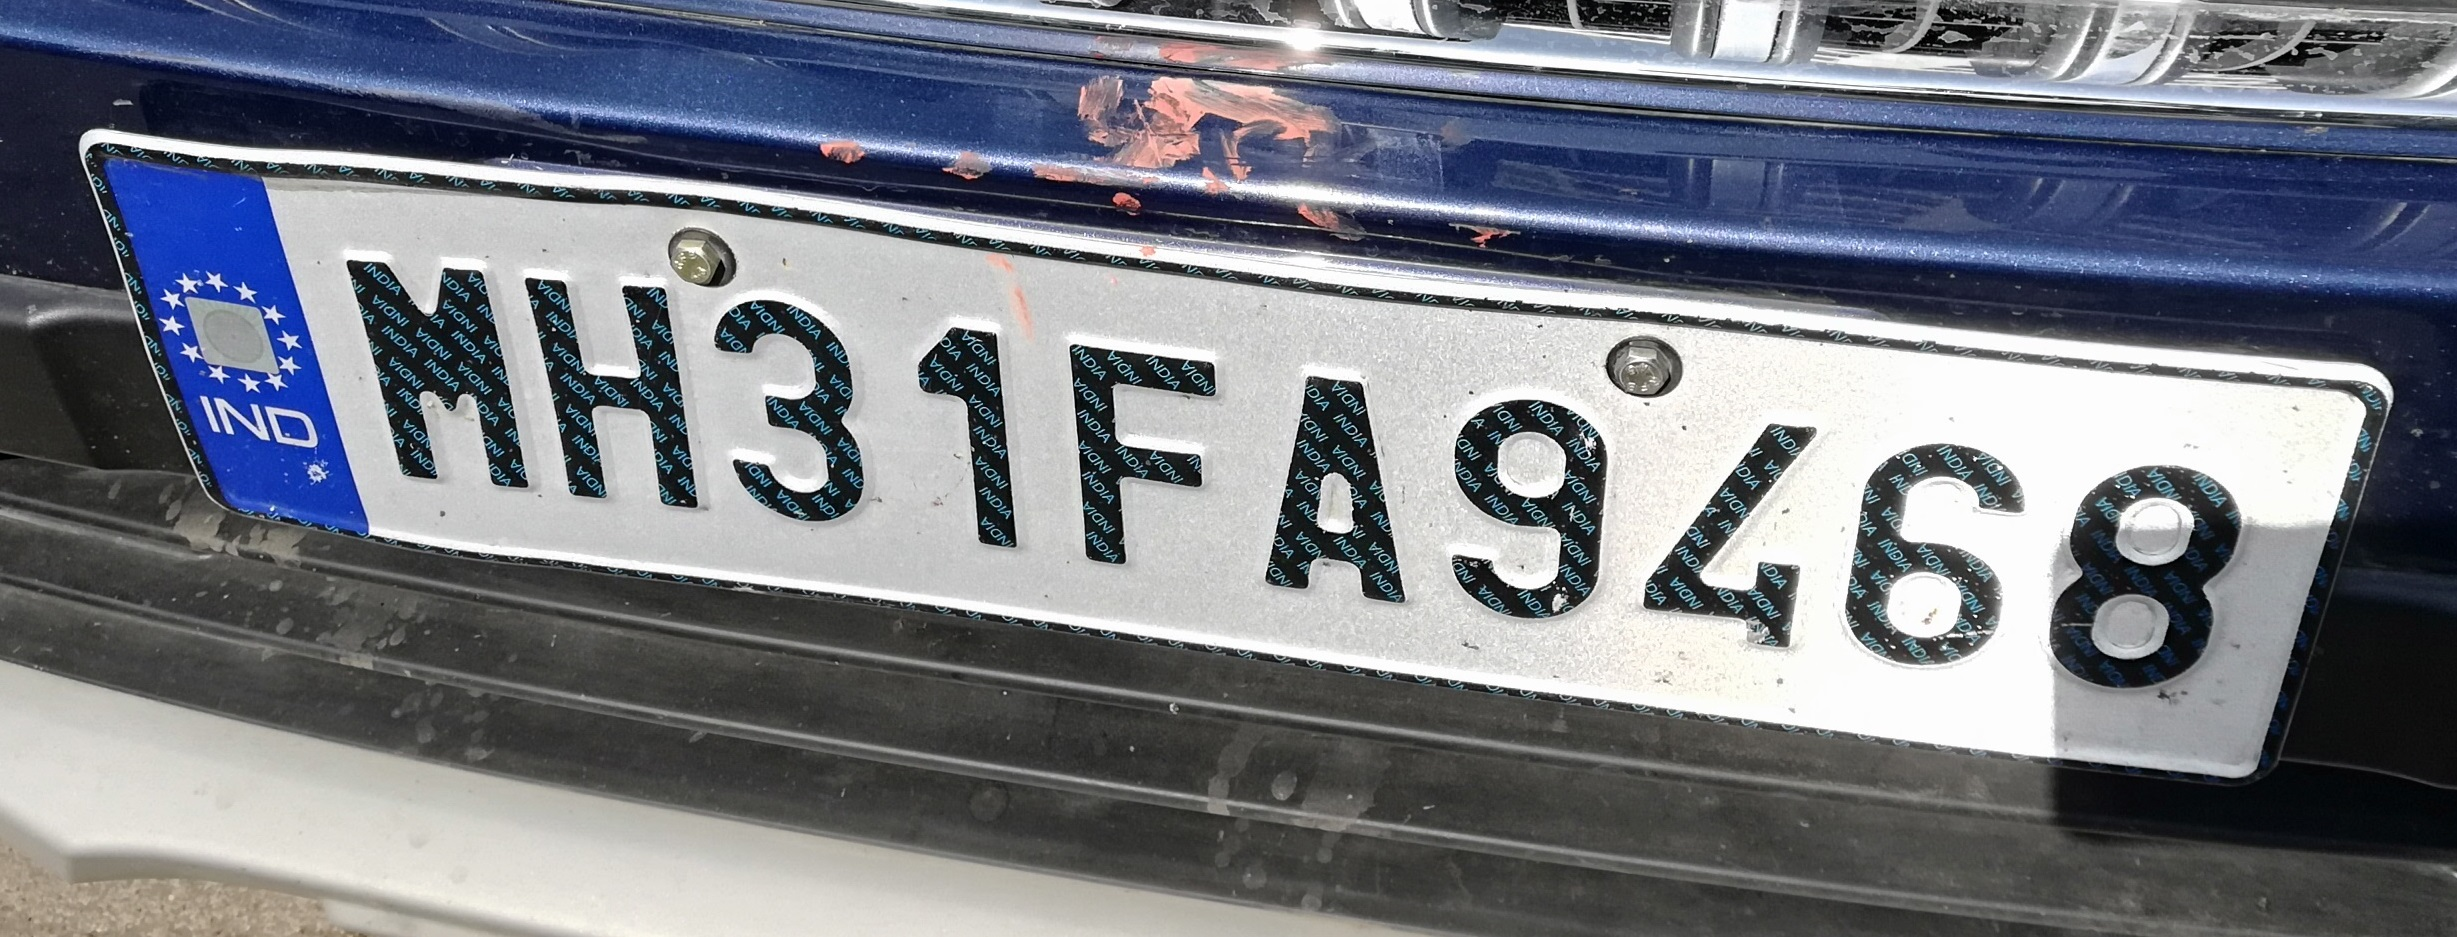numberplate: (73, 113, 2401, 789)
